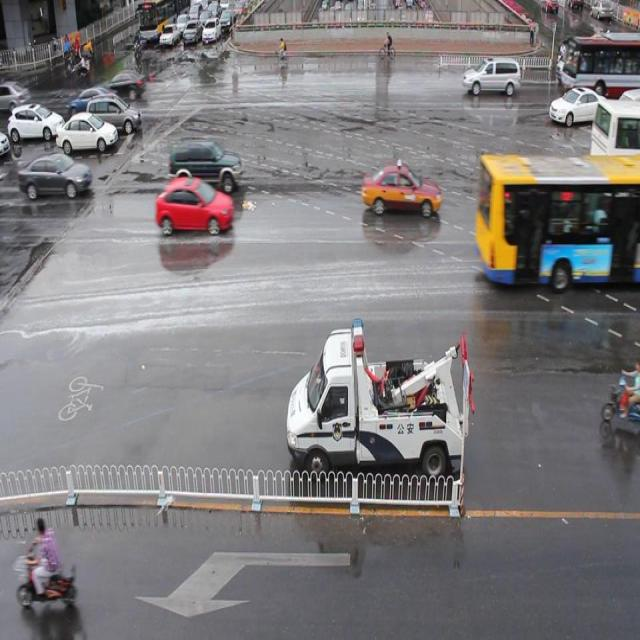car: (362, 161, 441, 221), (155, 177, 233, 234), (170, 139, 241, 195), (546, 85, 607, 127)
truck: (460, 56, 520, 99)
van: (478, 154, 640, 288), (590, 98, 640, 185)
